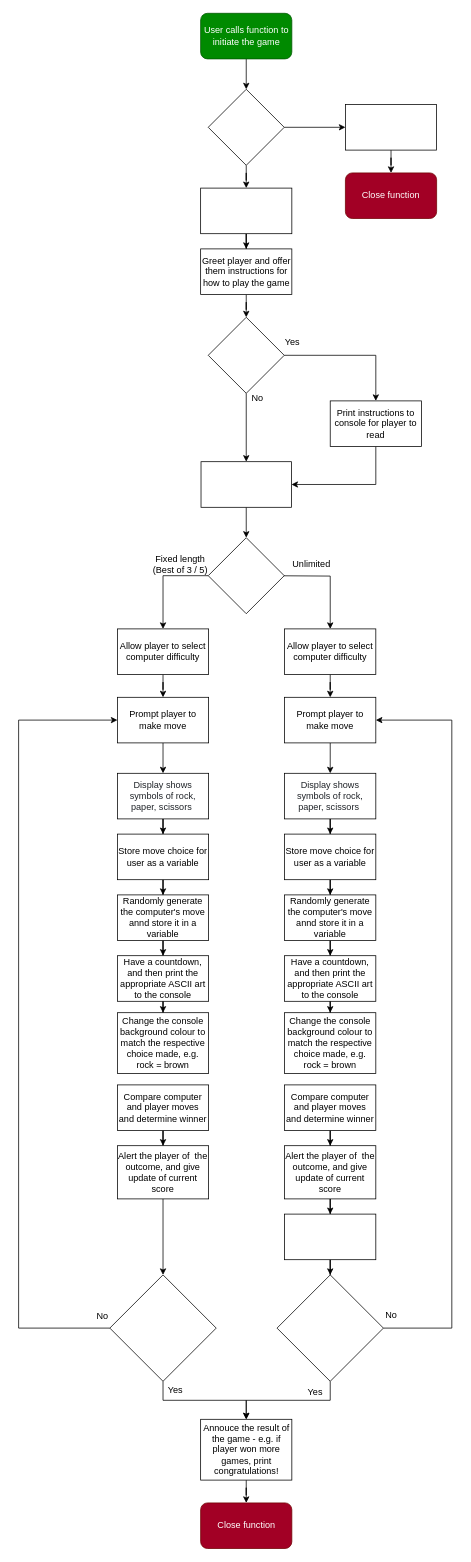
Image size: 471x1562. Some labels were removed from this diagram. Each missing label, with the centre of its shape:
Ask the player if they would like to continue player.: [330,1236]
Confirm the player is ready to start: [245,127]
Does the player wish to continue?: [329,1327]
Has the player played the chosen number of games?: [162,1327]
Have user pick desired game length: [245,484]
Print the message "Take your time!": [391,127]
Prompt the user to enter name: [246,210]
What does the player choose?: [245,575]
Which option does the player pick?: [245,355]
